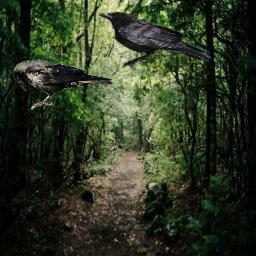Crow: (98, 11, 211, 69), (13, 59, 114, 110)
